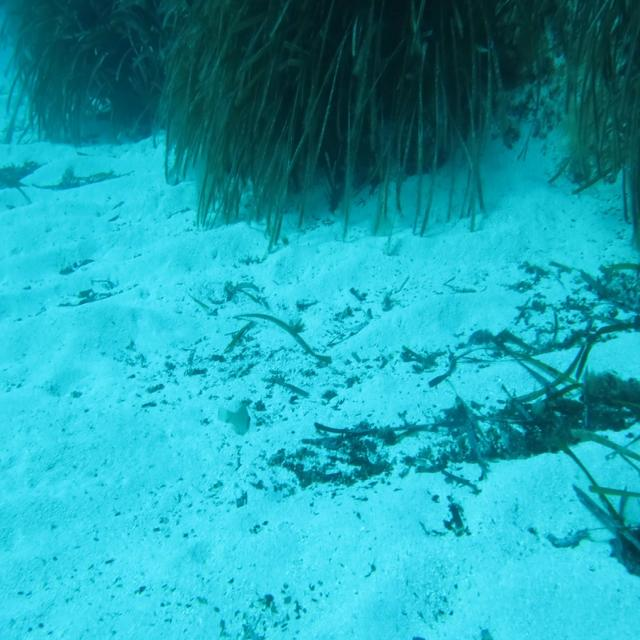SA: (214, 394, 256, 440)
vegetation: (25, 0, 638, 201), (434, 375, 640, 468)
